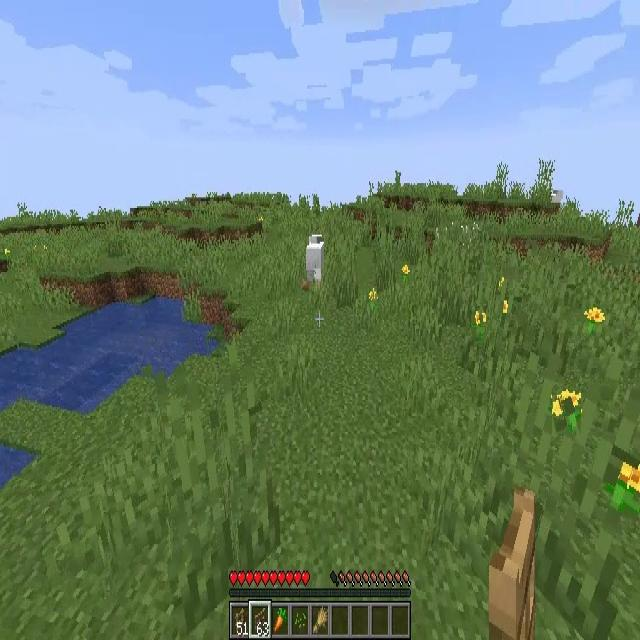flower: (613, 457, 640, 510), (552, 388, 581, 434), (585, 305, 605, 325), (475, 310, 486, 326), (369, 286, 377, 302), (502, 300, 507, 316)
sheep: (306, 236, 325, 284)
